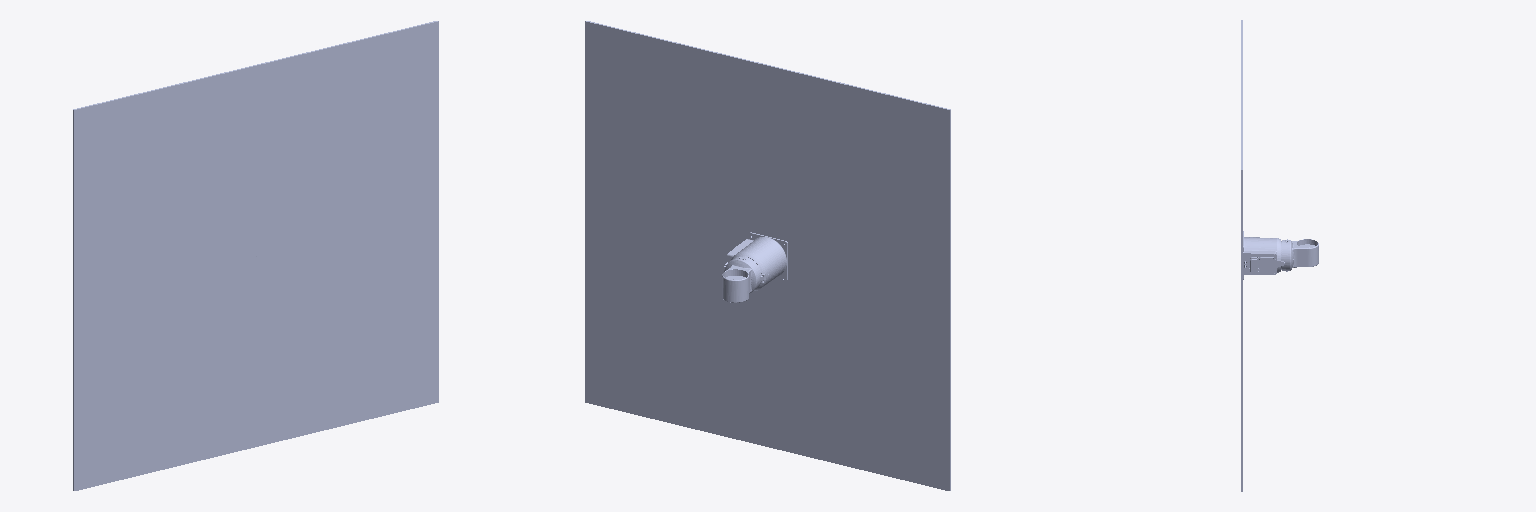
The robot description file, URDF, robot "RA605_710":
<robot
  name="RA605_710">
  <link
    name="base_link">
    <inertial>
      <origin
        xyz="-0.00322329614662995 -0.005 4.34971473156821E-16"
        rpy="0 0 0" />
      <mass
        value="39.9992146018366" />
      <inertia
        ixx="13.3336666552129"
        ixy="2.18068724778341E-19"
        ixz="-2.73645750664298E-15"
        iyy="26.6666666568492"
        iyz="-4.57489937427496E-14"
        izz="13.3336666552129" />
    </inertial>
    <visual>
      <origin
        xyz="0 0 0"
        rpy="0 0 0" />
      <geometry>
        <mesh
          filename="package://RA605_710/meshes/base_link.STL" />
      </geometry>
      <material
        name="">
        <color
          rgba="0.792156862745098 0.819607843137255 0.933333333333333 1" />
      </material>
    </visual>
    <collision>
      <origin
        xyz="0 0 0"
        rpy="0 0 0" />
      <geometry>
        <mesh
          filename="package://RA605_710/meshes/base_link.STL" />
      </geometry>
    </collision>
  </link>
  <link
    name="Link1">
    <inertial>
      <origin
        xyz="-0.00322329614662996 -0.005 3.79695301389313E-16"
        rpy="0 0 0" />
      <mass
        value="39.9992146018366" />
      <inertia
        ixx="13.3336666552129"
        ixy="9.07838619093324E-18"
        ixz="-1.85037170770859E-15"
        iyy="26.6666666568492"
        iyz="-4.57355368706325E-14"
        izz="13.3336666552129" />
    </inertial>
    <visual>
      <origin
        xyz="0 0 0"
        rpy="0 0 0" />
      <geometry>
        <mesh
          filename="package://RA605_710/meshes/Link1.STL" />
      </geometry>
      <material
        name="">
        <color
          rgba="0.792156862745098 0.819607843137255 0.933333333333333 1" />
      </material>
    </visual>
    <collision>
      <origin
        xyz="0 0 0"
        rpy="0 0 0" />
      <geometry>
        <mesh
          filename="package://RA605_710/meshes/Link1.STL" />
      </geometry>
    </collision>
  </link>
  <joint
    name="j1"
    type="fixed">
    <origin
      xyz="0 0 0"
      rpy="0 0 0" />
    <parent
      link="base_link" />
    <child
      link="Link1" />
    <axis
      xyz="0 0 0" />
  </joint>
  <link
    name="Link2">
    <inertial>
      <origin
        xyz="0.0032233 3.7961E-16 -0.232"
        rpy="0 0 0" />
      <mass
        value="39.999" />
      <inertia
        ixx="13.334"
        ixy="1.8504E-15"
        ixz="-9.0784E-18"
        iyy="13.334"
        iyz="-4.6552E-14"
        izz="26.667" />
    </inertial>
    <visual>
      <origin
        xyz="0 0 0"
        rpy="0 0 0" />
      <geometry>
        <mesh
          filename="package://RA605_710/meshes/Link2.STL" />
      </geometry>
      <material
        name="">
        <color
          rgba="0.79216 0.81961 0.93333 1" />
      </material>
    </visual>
    <collision>
      <origin
        xyz="0 0 0"
        rpy="0 0 0" />
      <geometry>
        <mesh
          filename="package://RA605_710/meshes/Link2.STL" />
      </geometry>
    </collision>
  </link>
  <joint
    name="j2"
    type="revolute">
    <origin
      xyz="0 0.227 0"
      rpy="1.5708 -1.2246E-16 -3.1416" />
    <parent
      link="Link1" />
    <child
      link="Link2" />
    <axis
      xyz="0 0 1" />
    <limit
      effort="0"
      velocity="0" />
  </joint>
</robot>

--- Render facts (derived) ---
3 views of the same robot in one strip: view 1: azimuth 30°, elevation 25°; view 2: azimuth 150°, elevation 25°; view 3: azimuth 270°, elevation 25° (orthographic).
Robot: RA605_710 — 3 links, 2 joints (1 revolute, 1 fixed); root link base_link; default pose: all joints at 0.
Visible links, largest first — view 1: base_link; view 2: base_link, Link1, Link2; view 3: Link1, Link2, base_link.
Link boxes in pixels (<box>): base_link: <box>73,21,438,490</box>; base_link: <box>585,21,950,490</box>; Link1: <box>723,232,787,290</box>; Link2: <box>722,256,763,302</box>; Link1: <box>1243,231,1284,279</box>; Link2: <box>1282,239,1318,271</box>; base_link: <box>1241,20,1242,491</box>.
Size in the robot's own frame: 2 by 0.44 by 2 metres.
Meshes: 3 distinct files referenced, 3 mesh visuals loaded (3 binary STL).